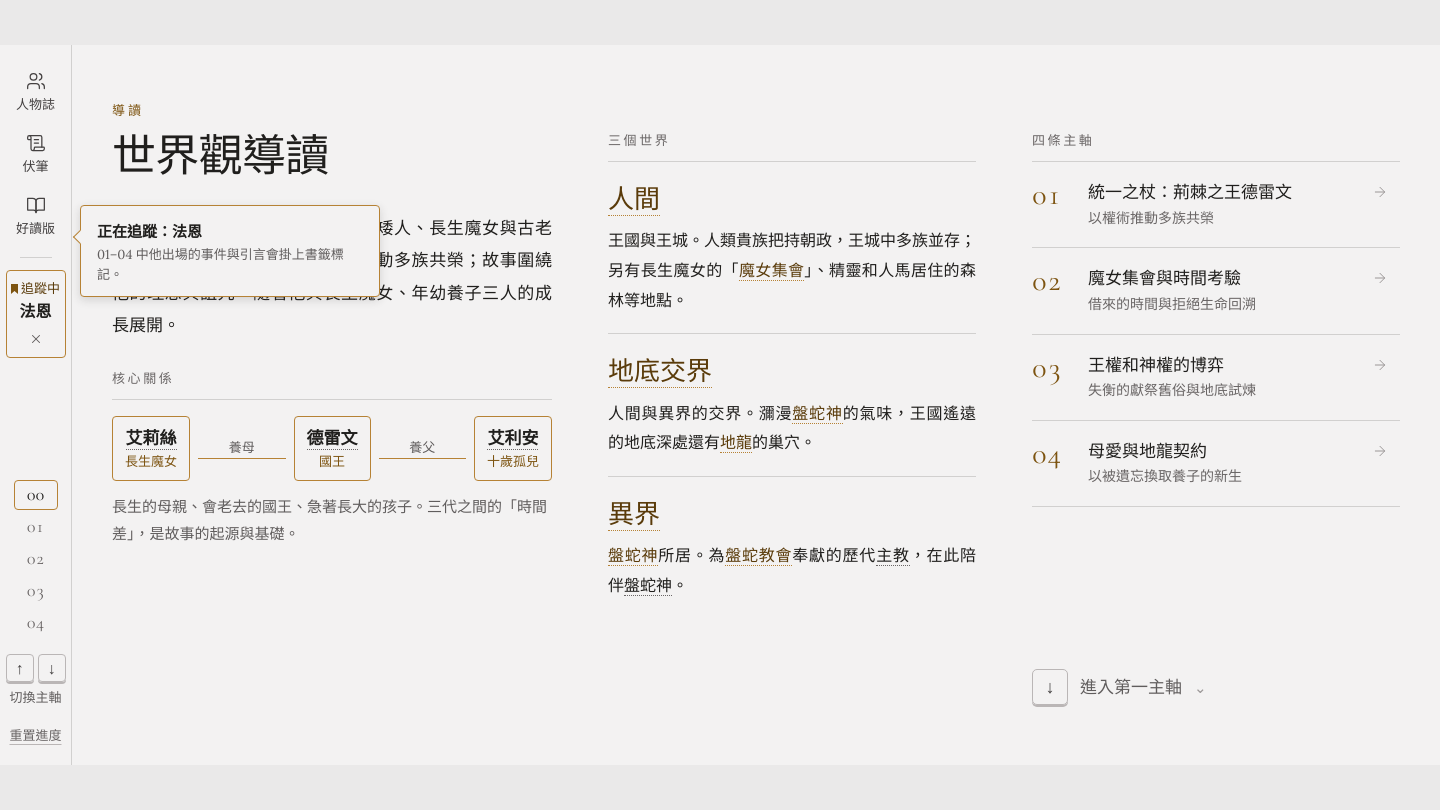
Test: App 組裝（版型＋路由＋狀態＋側欄＋鍵盤） › 追蹤中的人物顯示在側欄，可取消
Expected: the text "法恩" is shown, 20,301 -> 52,323
Click the button named "取消追蹤".
click(36, 339)  # box 22,325 -> 50,353
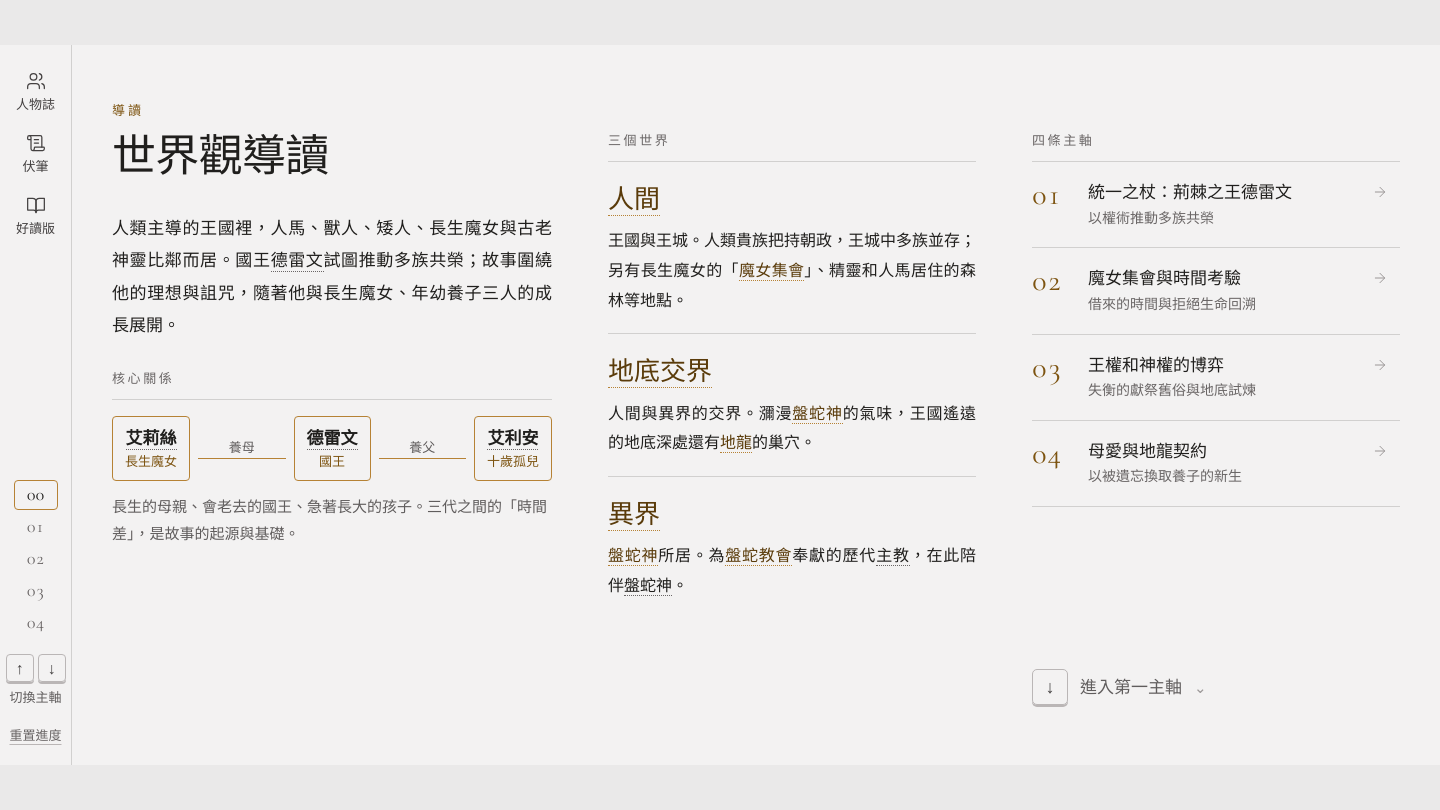
Now the text "法恩" is gone
